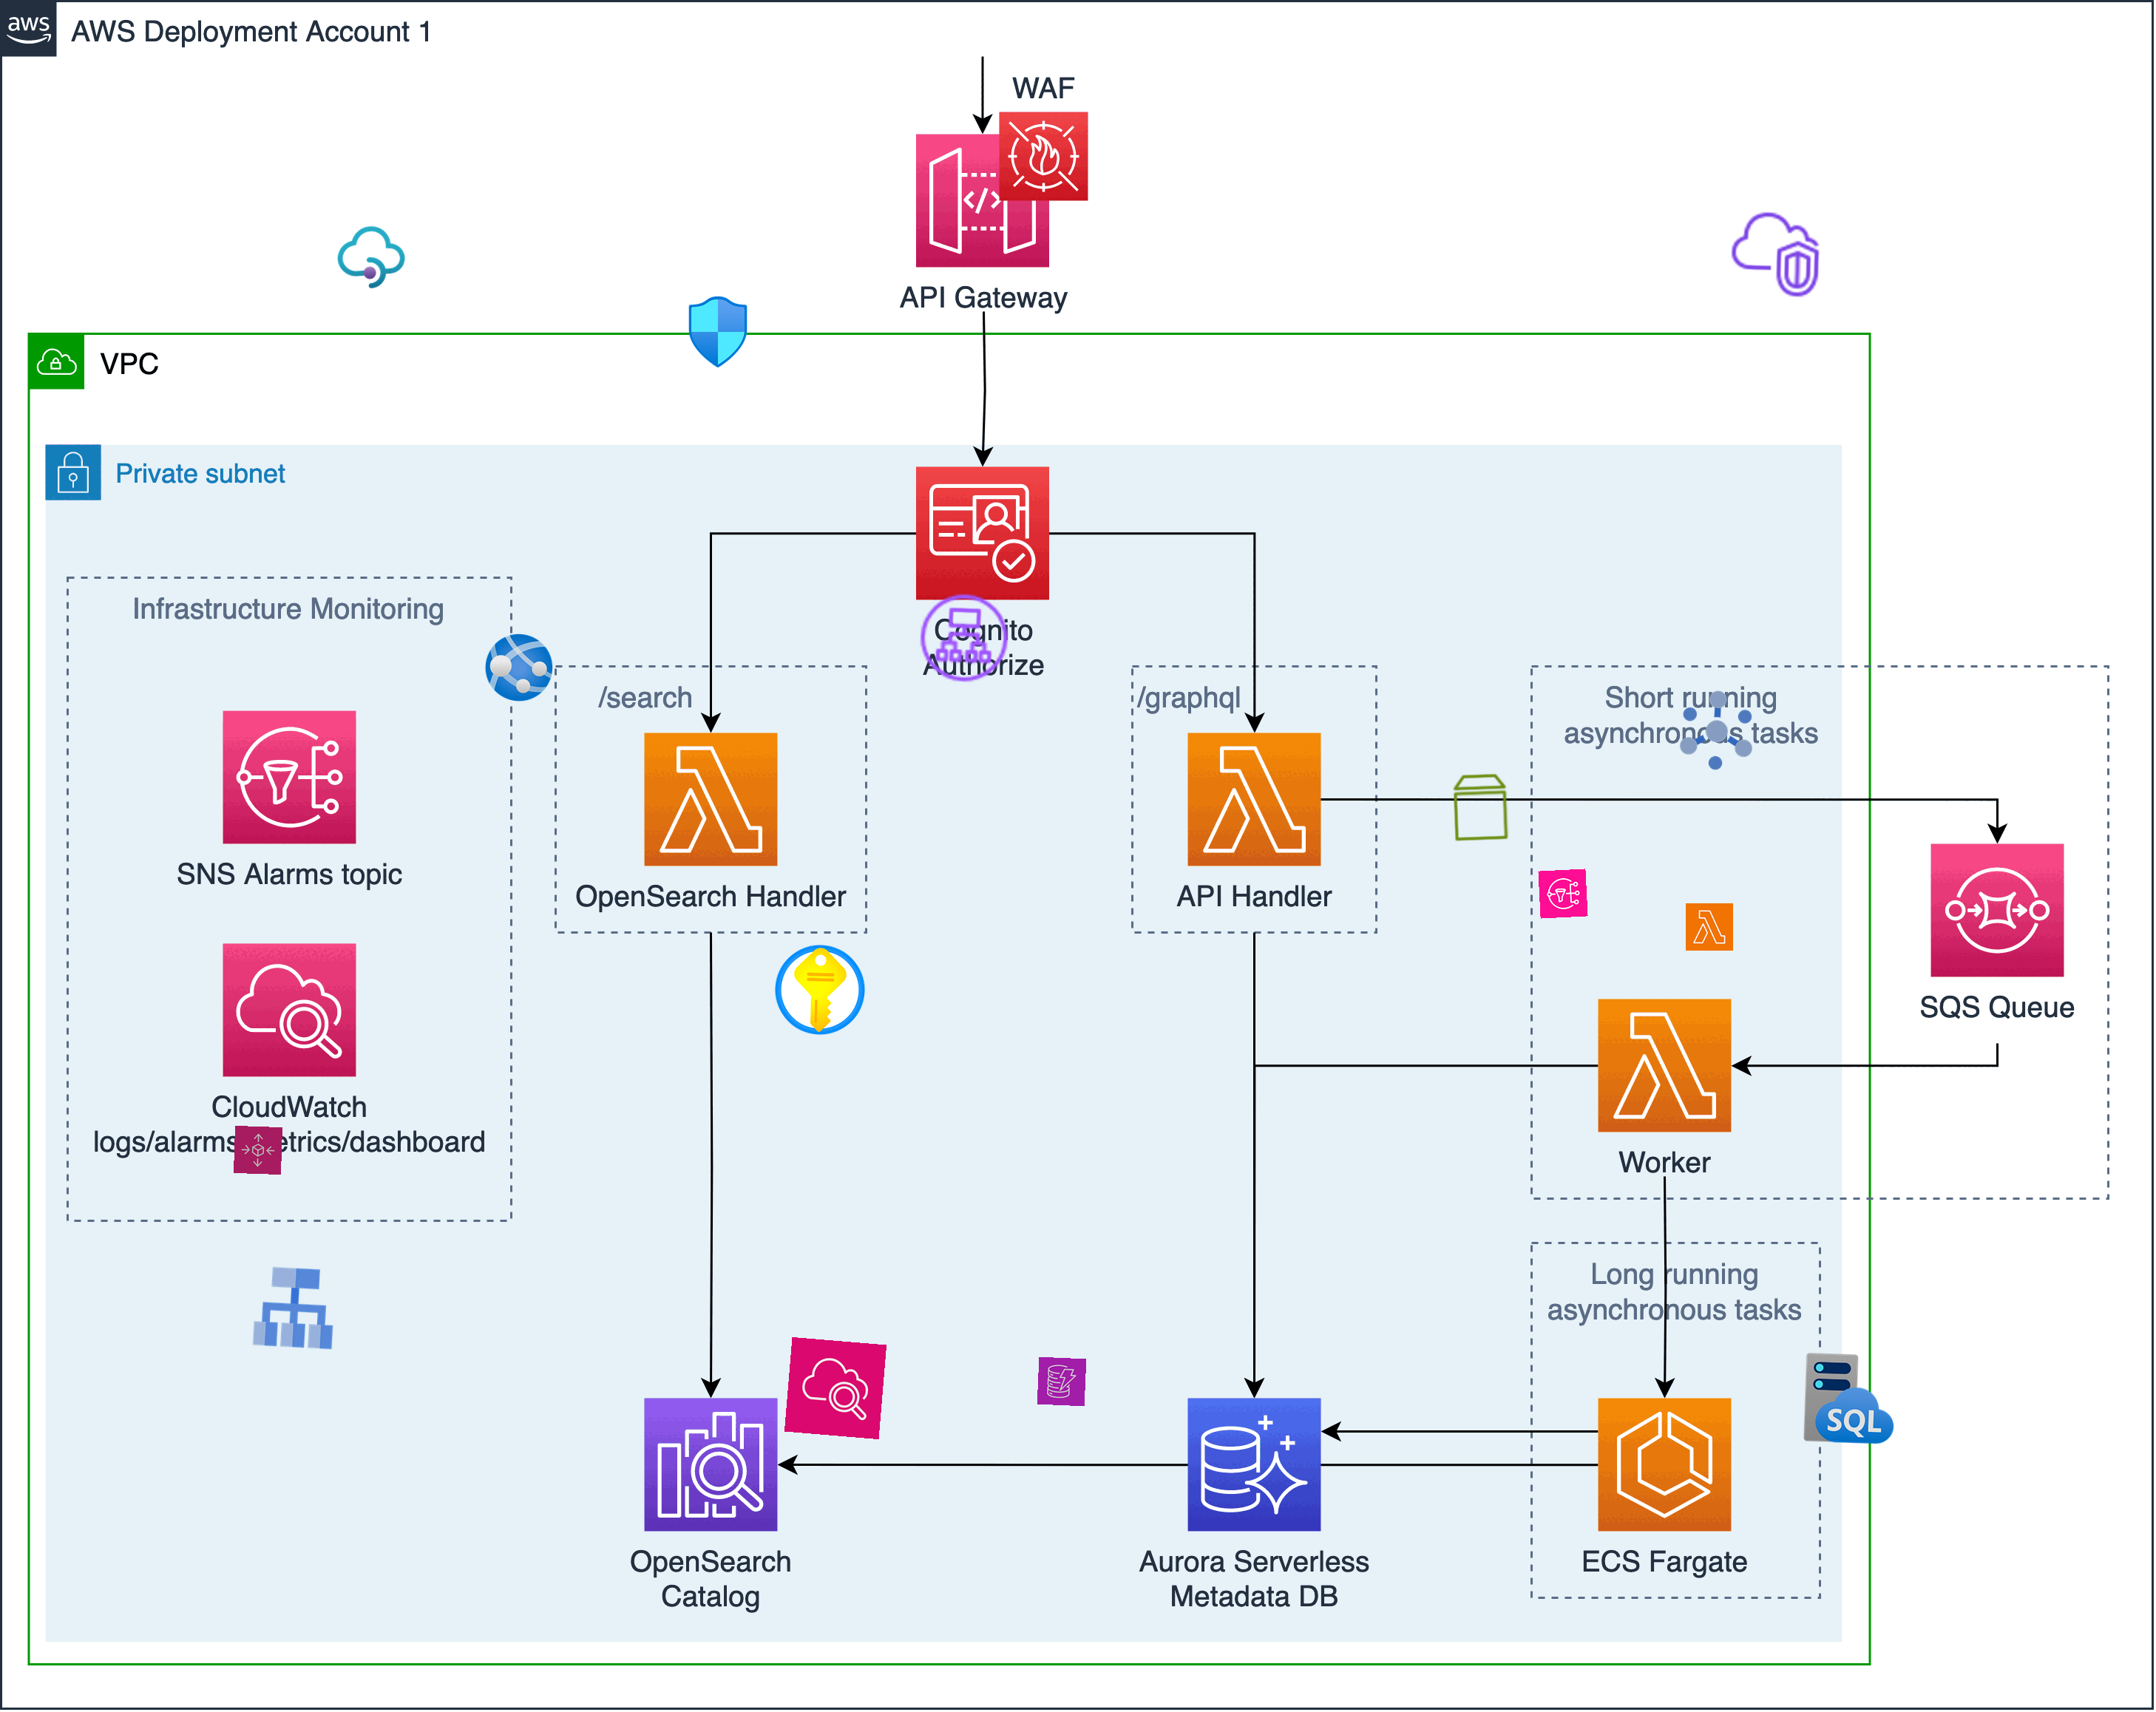aws_amazon_cloudwatch: (784, 1336, 887, 1439)
aws_amazon_dynamodb: (1036, 1357, 1087, 1406)
aws_amazon_simple_notification_service: (1538, 869, 1589, 918)
aws_auto_scaling: (233, 1124, 284, 1175)
aws_elastic_block_store_volume: (1444, 769, 1517, 845)
aws_elastic_load_balancing_application_load_balancer: (915, 588, 1013, 687)
aws_lambda: (1685, 902, 1734, 951)
aws_vpc_virtual_private_cloud_vpc: (1726, 205, 1825, 304)
azure_api_management_services: (332, 219, 410, 296)
azure_app_services: (483, 631, 555, 703)
azure_key_vaults: (772, 941, 868, 1039)
azure_network_security_groups: (682, 296, 754, 369)
azure_sql_managed_instance: (1801, 1348, 1899, 1448)
gcp_cloud_load_balancing: (243, 1257, 345, 1359)
gcp_pubsub: (1668, 680, 1766, 780)
